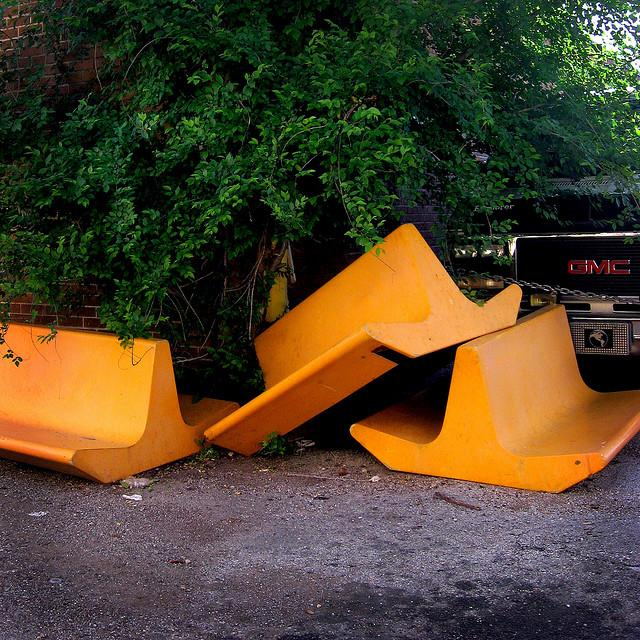Vehicle: (509, 232, 640, 385)
